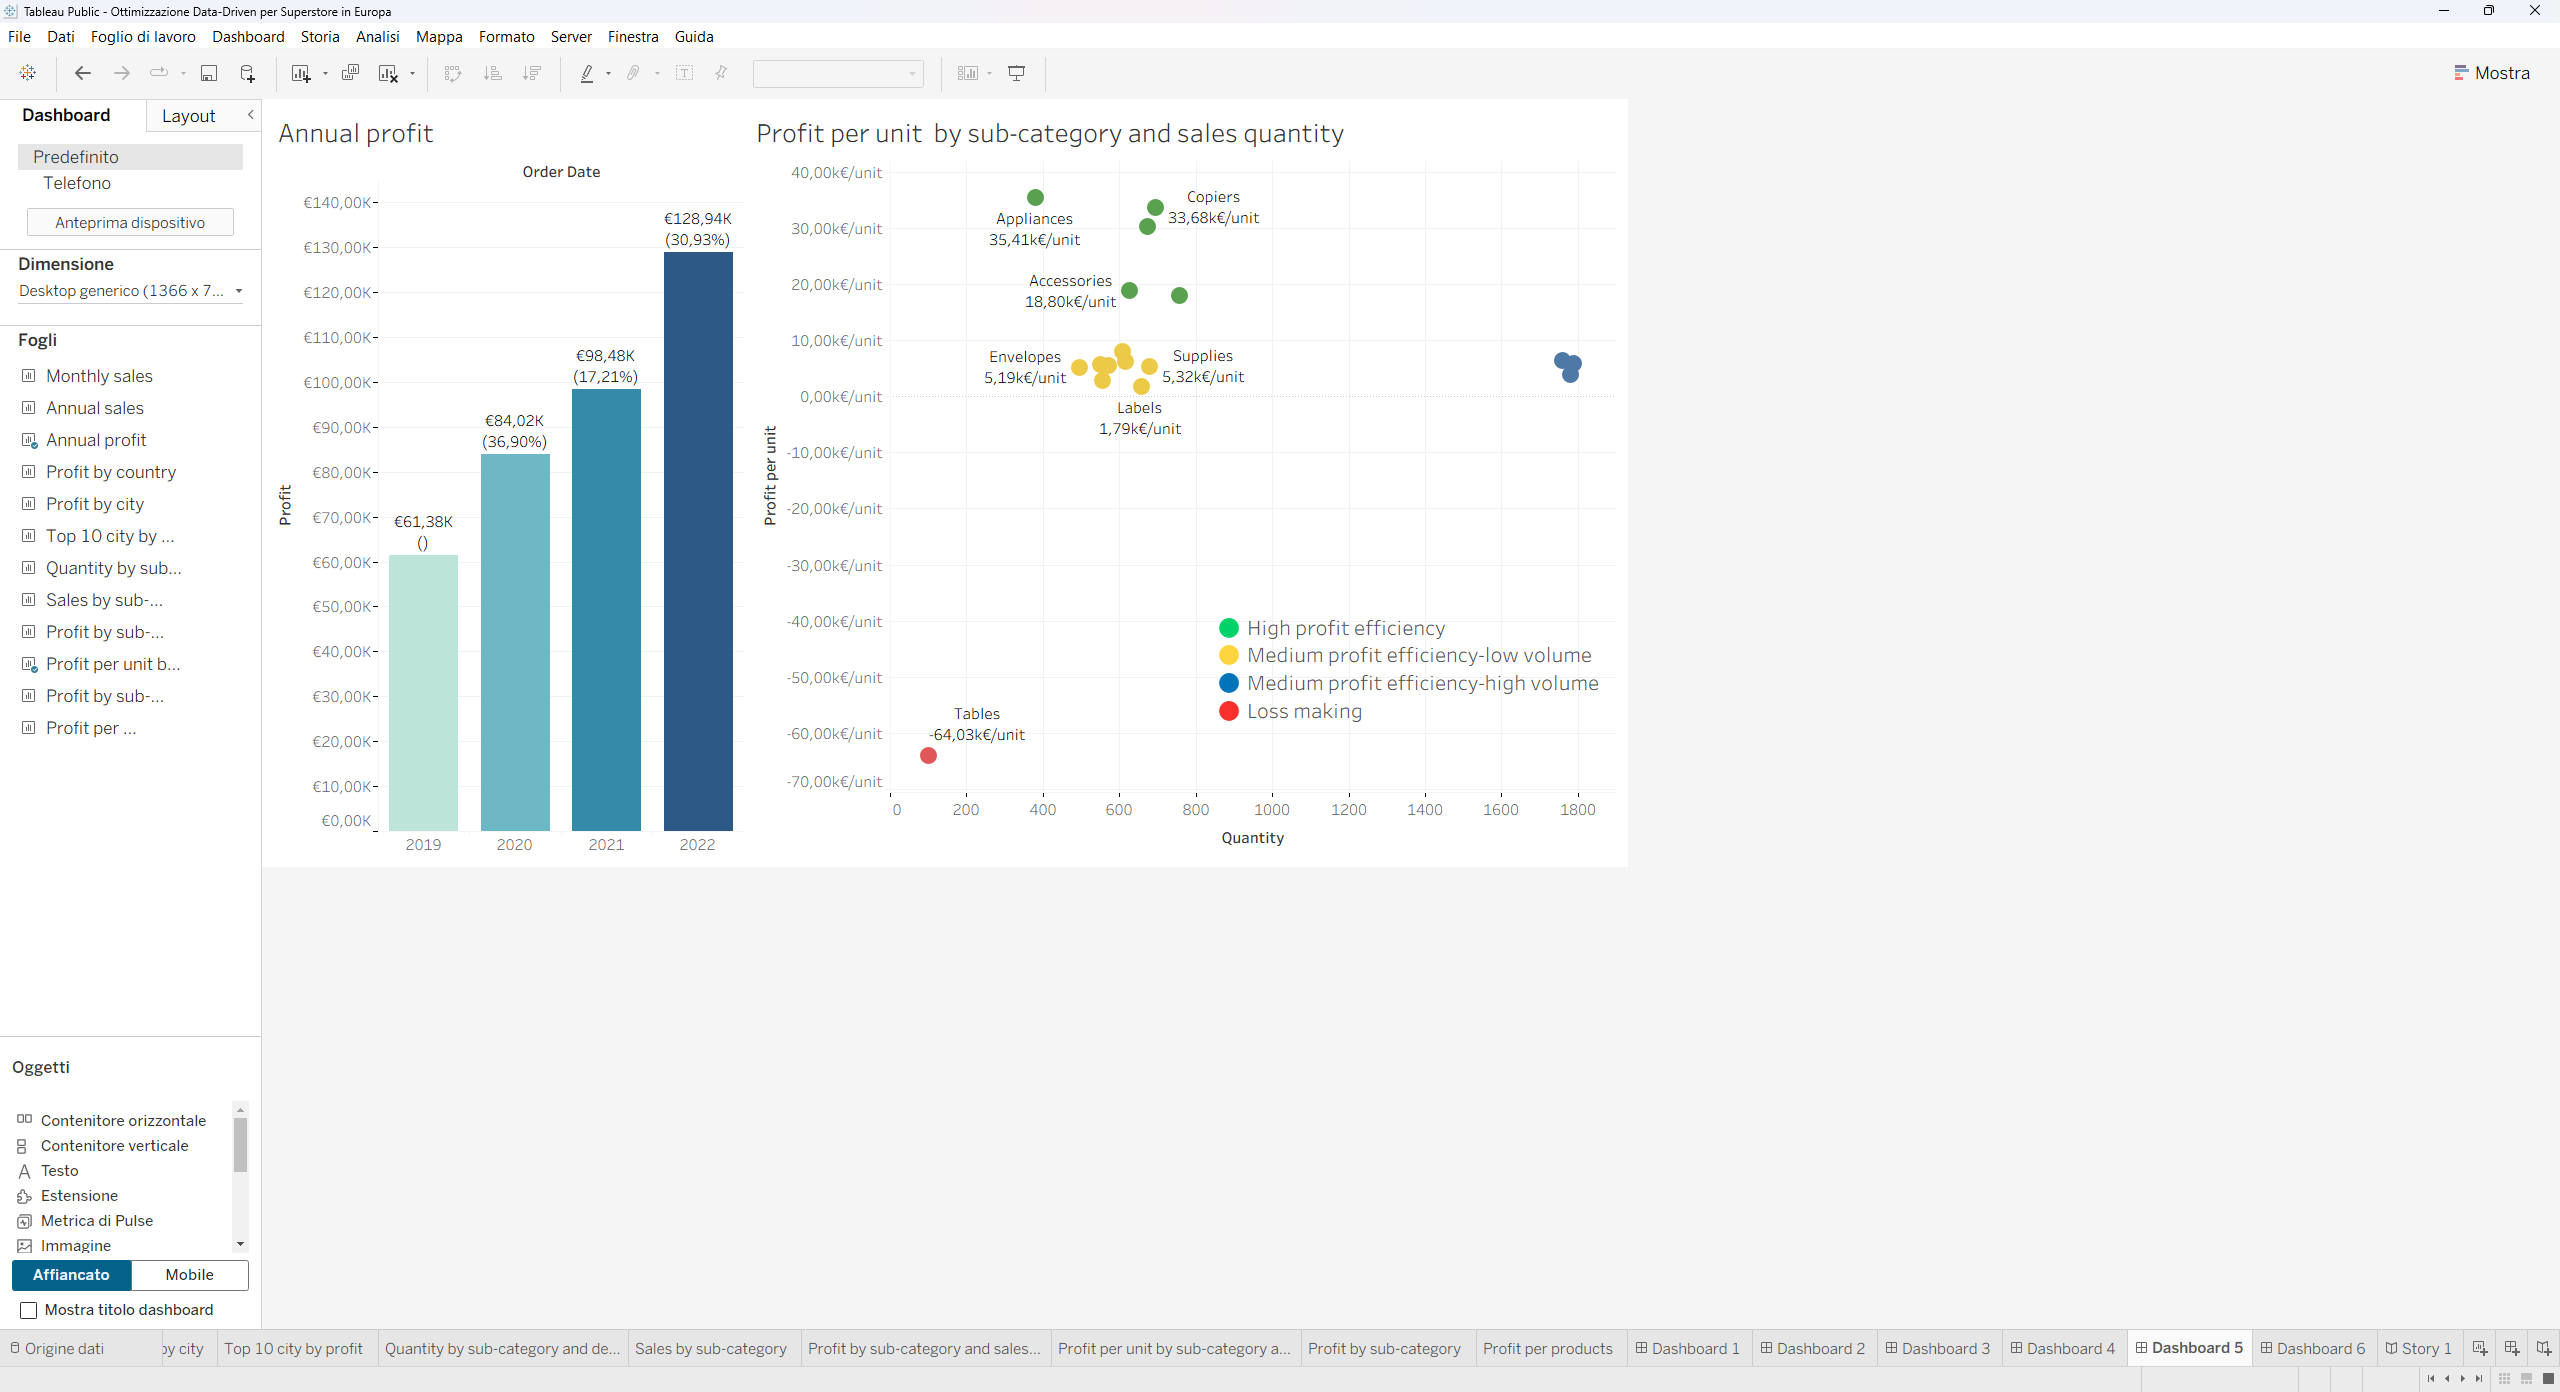

Layout of this report page (visuals, bound fields, positions):
{"tool":"tableau","page":{"name":"Dashboard 5","canvas":[1366,768],"ordinal":4},"visuals":[{"type":"worksheet","title":"Annual profit","mark":"Bar","rows":["Profit"],"cols":["Order Date"],"box":[8,8,478,752]},{"type":"worksheet","title":"Profit per unit by sub-category and sales quantity","mark":"Automatic","rows":["Calculation_0837880569569280"],"cols":["Quantity"],"box":[486,8,872,752]},{"type":"text","box":[950,496,399,148]}]}

Visuals, with their boxes on the page's 1366x768 design canvas (x1, y1, x2, y2). These are canvas units, not pixel positions in the 2560x1392 screenshot, which may show the page scaled, cropped or inside an application window:
"Annual profit" worksheet (Bar marks): [8,8,486,760]
"Profit per unit by sub-category and sales quantity" worksheet: [486,8,1358,760]
text: [950,496,1349,644]
